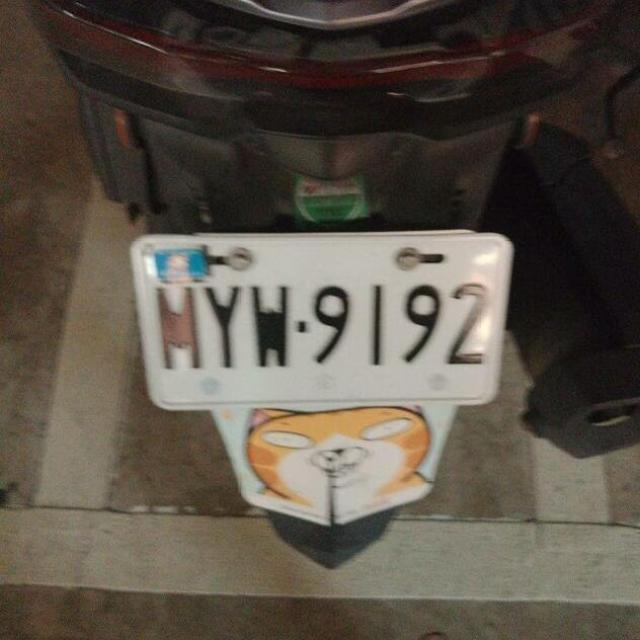W: (120, 212, 526, 427)
